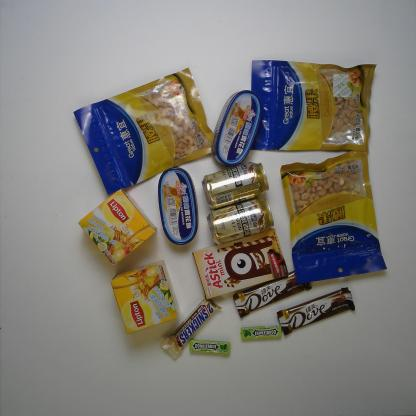Alcohol: (207, 198, 275, 246), (201, 162, 268, 210)
Canned Food: (212, 90, 260, 169), (159, 167, 198, 245)
Chocolate: (232, 265, 312, 318), (160, 295, 222, 360), (276, 287, 356, 336)
Dessert: (192, 228, 288, 300)
Dried Fruit: (73, 67, 222, 195), (280, 149, 388, 285), (245, 59, 378, 153)
Gum: (189, 338, 231, 356), (240, 325, 284, 341)
Instant Drink: (78, 188, 156, 265), (110, 260, 180, 334)
